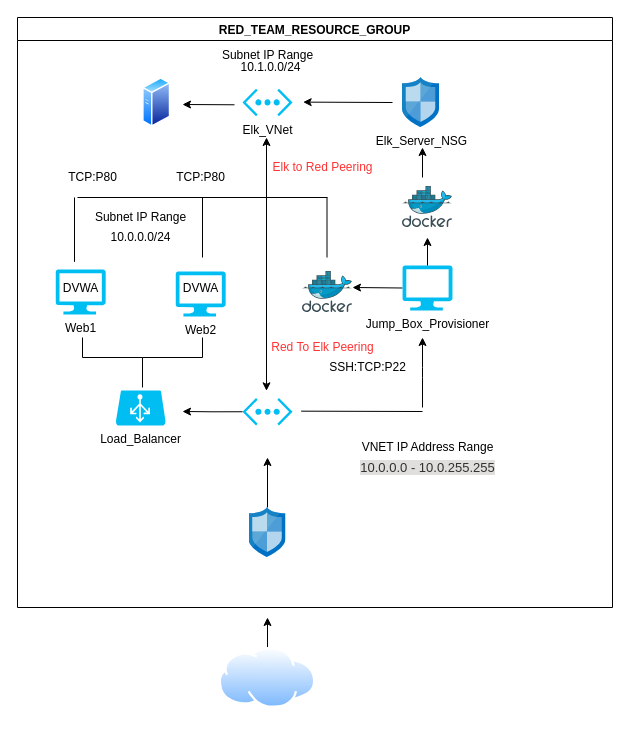
This 643x750 diagram has some shape labels left out. Here are the shapes that lost their labels. From the top down, the centre of each, then its label:
point (156, 102): Elk_Server
point (267, 411): Red_Team_Net
point (267, 532): Red_Team_NSG
point (267, 677): internet
